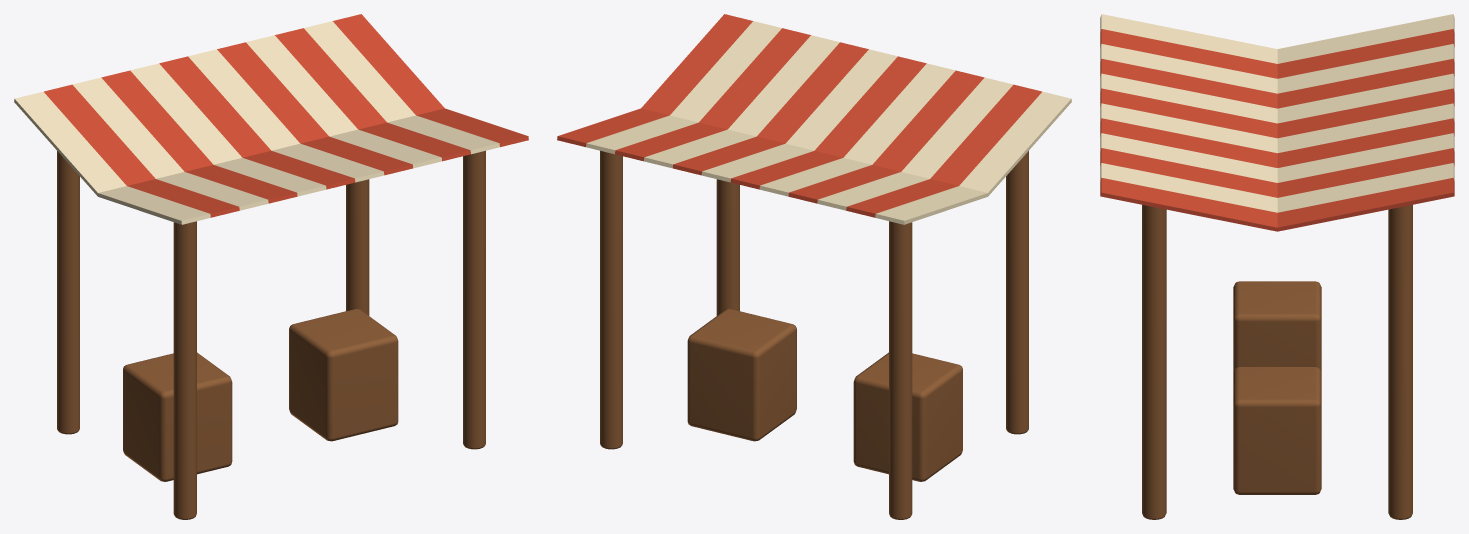
The model's file is NJD-24.glb.
3 views of the same model, side by side, from view 1: azimuth 30°, elevation 25°; view 2: azimuth 150°, elevation 25°; view 3: azimuth 270°, elevation 25° (orthographic). The views are drawn at different scales.
Visible parts, largest first — view 1: shelter crate.001, shelter crate, timber post, timber post.002, timber post.001, canvas stripe, canvas stripe.002, canvas stripe.001, canvas stripe.003, canvas stripe.004, canvas stripe.010, canvas stripe.011 (+6 smaller); view 2: shelter crate.001, shelter crate, timber post.001, timber post.003, timber post, canvas stripe, canvas stripe.002, canvas stripe.001, canvas stripe.003, canvas stripe.004, canvas stripe.010, canvas stripe.011 (+6 smaller); view 3: shelter crate.001, timber post.002, timber post.003, shelter crate, canvas stripe.011, canvas stripe, canvas stripe.005, canvas stripe.007, canvas stripe.002, canvas stripe.010, canvas stripe.009, canvas stripe.003 (+4 smaller).
Part boxes in pixels (x1,y1,x2,y2): shelter crate.001: (289, 309, 398, 441); shelter crate: (123, 352, 232, 481); timber post: (173, 221, 196, 519); timber post.002: (463, 150, 485, 449); timber post.001: (57, 151, 79, 434); canvas stripe: (14, 91, 210, 224); canvas stripe.002: (72, 77, 268, 210); canvas stripe.001: (44, 84, 239, 217); canvas stripe.003: (101, 70, 297, 203); canvas stripe.004: (130, 63, 326, 196); canvas stripe.010: (304, 21, 499, 154); canvas stripe.011: (333, 14, 528, 147); shelter crate.001: (687, 309, 796, 441); shelter crate: (853, 352, 962, 481); timber post.001: (889, 221, 912, 519); timber post.003: (600, 150, 622, 449); timber post: (1006, 151, 1028, 434); canvas stripe: (875, 91, 1071, 224); canvas stripe.002: (817, 77, 1013, 210); canvas stripe.001: (846, 84, 1041, 217); canvas stripe.003: (788, 70, 984, 203); canvas stripe.004: (759, 63, 955, 196); canvas stripe.010: (586, 21, 781, 154); canvas stripe.011: (557, 14, 752, 147); shelter crate.001: (1233, 367, 1321, 494); timber post.002: (1142, 205, 1166, 519); timber post.003: (1388, 205, 1412, 519); shelter crate: (1233, 281, 1321, 372); canvas stripe.011: (1100, 177, 1454, 231); canvas stripe: (1100, 14, 1454, 63); canvas stripe.005: (1100, 88, 1454, 138); canvas stripe.007: (1100, 118, 1454, 167); canvas stripe.002: (1100, 44, 1454, 93); canvas stripe.010: (1100, 163, 1454, 212); canvas stripe.009: (1100, 148, 1454, 197); canvas stripe.003: (1100, 58, 1454, 108).
Bounding box in the file's own units: 2.4 × 2.12 × 2.01.
